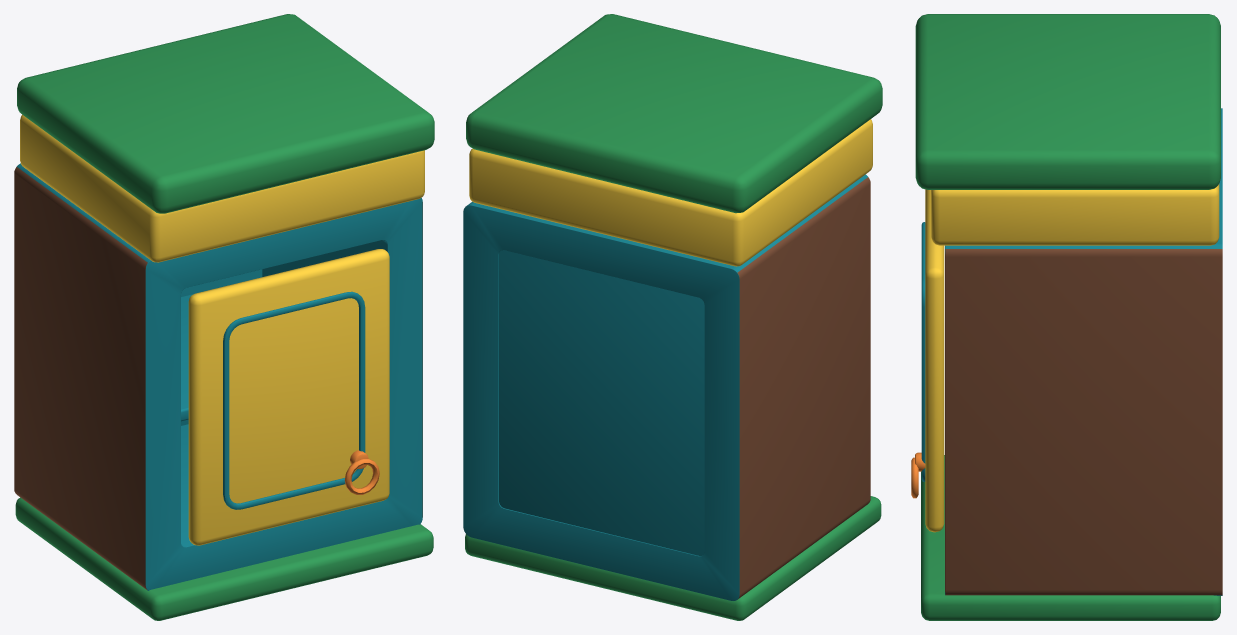
File: armario_parede_1porta_colonial_mata.glb
The picture shows the model from 3 angles, left to right: view 1: azimuth 30°, elevation 25°; view 2: azimuth 150°, elevation 25°; view 3: azimuth 270°, elevation 25°; orthographic projection. The views are drawn at different scales.
Visible parts, largest first — view 1: armario_parede_1porta_colonial_mata, porta_1; view 2: armario_parede_1porta_colonial_mata; view 3: armario_parede_1porta_colonial_mata, porta_1.
Boxes of the visible parts, x1,y1,x2,y2 form: armario_parede_1porta_colonial_mata: (14,14,434,620); porta_1: (188,249,389,545); armario_parede_1porta_colonial_mata: (463,14,882,620); armario_parede_1porta_colonial_mata: (915,14,1222,620); porta_1: (911,189,944,532).
Bounding box in the file's own units: 0.398 × 0.6 × 0.3612.
Materials: 1 (1 with a texture image).
